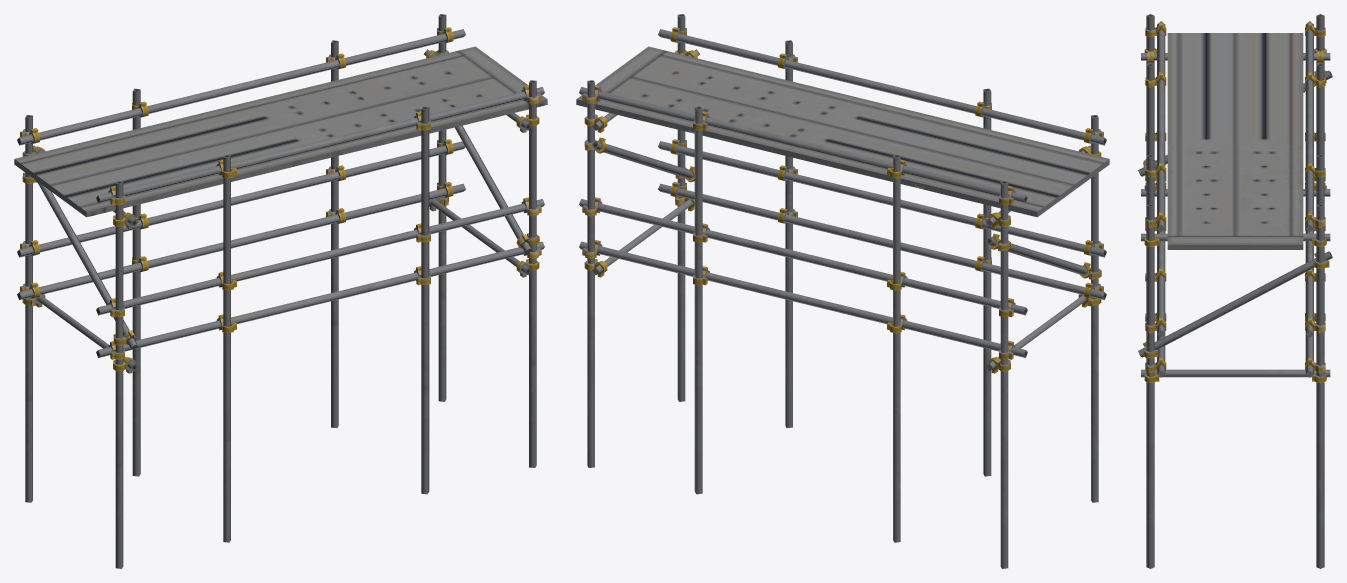
File: objects_un_t07scaffolding05.gltf
3 views of the same model, side by side, from view 1: azimuth 30°, elevation 25°; view 2: azimuth 150°, elevation 25°; view 3: azimuth 270°, elevation 25° (orthographic). The views are drawn at different scales.
Visible parts, largest first — view 1: objects_un_t07scaffolding05_mesh_shape:objects_un_t07scaffol; view 2: objects_un_t07scaffolding05_mesh_shape:objects_un_t07scaffol; view 3: objects_un_t07scaffolding05_mesh_shape:objects_un_t07scaffol.
Part boxes in pixels (<box>): objects_un_t07scaffolding05_mesh_shape:objects_un_t07scaffol: <box>14,14,547,568</box>; objects_un_t07scaffolding05_mesh_shape:objects_un_t07scaffol: <box>576,14,1109,568</box>; objects_un_t07scaffolding05_mesh_shape:objects_un_t07scaffol: <box>1138,14,1332,568</box>.
Size of the model in its own units: 8.3 by 6.62 by 3.23.
Materials: 1 (1 with a texture image).
